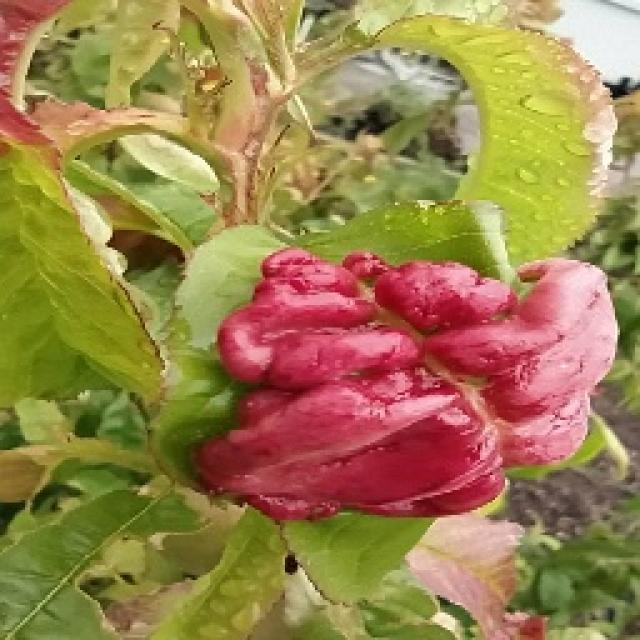peach_leaf_curl: (192, 240, 620, 522)
